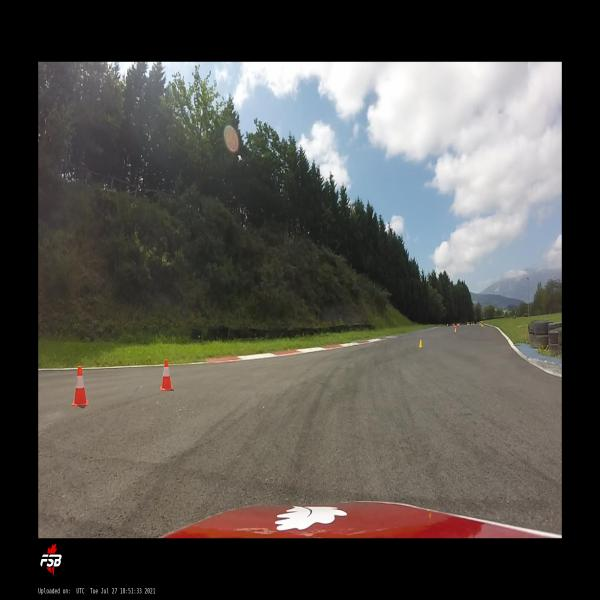orange_cone: (72, 366, 88, 406), (160, 359, 174, 391)
yellow_cone: (419, 338, 423, 347), (454, 326, 456, 332)
